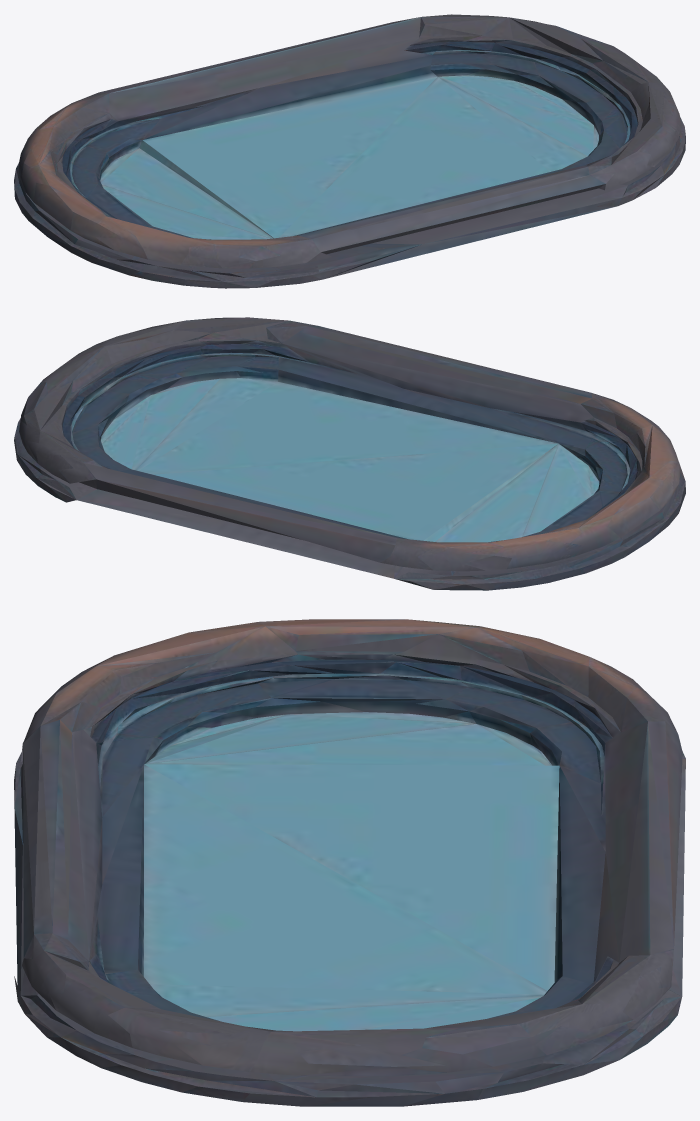
File: chute.glb
3 renders of one model, top to bottom at view 1: azimuth 30°, elevation 25°; view 2: azimuth 150°, elevation 25°; view 3: azimuth 270°, elevation 25°, orthographic. The views are drawn at different scales.
Visible parts, largest first — view 1: mesh_node; view 2: mesh_node; view 3: mesh_node.
Boxes of the visible parts, <box> form: mesh_node: <box>14,14,685,288</box>; mesh_node: <box>14,317,685,590</box>; mesh_node: <box>14,619,685,1106</box>.
Bounding box in the file's own units: 1.9 × 0.1094 × 1.21.
Materials: 1 (1 with a texture image).
